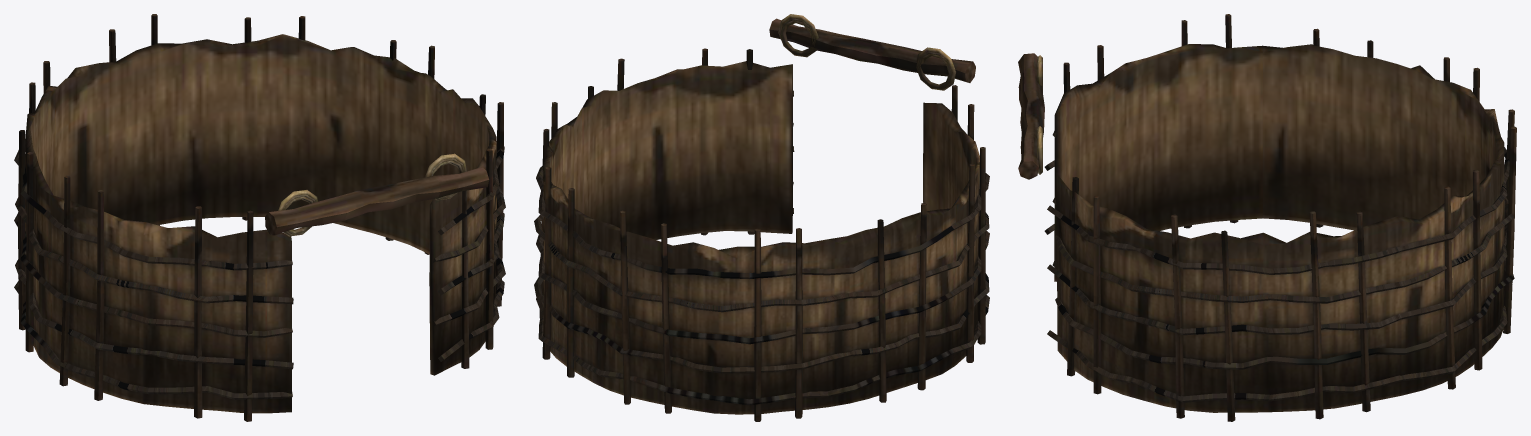
The model's file is shelter_wattle.gltf.
The picture shows the model from 3 angles, left to right: view 1: azimuth 30°, elevation 25°; view 2: azimuth 150°, elevation 25°; view 3: azimuth 270°, elevation 25°; orthographic projection. The views are drawn at different scales.
Parts seen in each view (by area): view 1: shelter_wattle; view 2: shelter_wattle; view 3: shelter_wattle.
Part boxes in pixels (x1,y1,x2,y2): shelter_wattle: (14, 14, 505, 421); shelter_wattle: (534, 14, 989, 421); shelter_wattle: (1018, 14, 1516, 421).
Bounding box in the file's own units: 2.32 × 1.21 × 2.38.
Materials: 4 (4 with a texture image).
